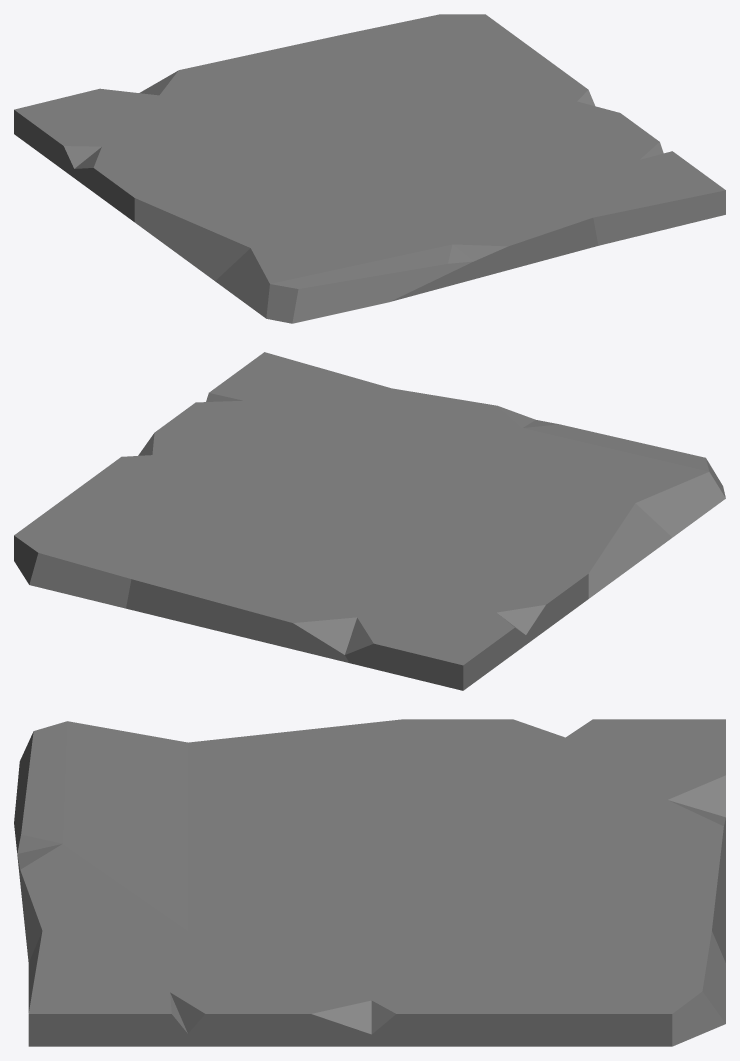
Rendered from stone_3.fbx.
The picture shows the model from 3 angles, top to bottom: view 1: azimuth 30°, elevation 25°; view 2: azimuth 150°, elevation 25°; view 3: azimuth 270°, elevation 25°; orthographic projection. The views are drawn at different scales.
Visible parts, largest first — view 1: stone_3; view 2: stone_3; view 3: stone_3.
Part boxes in pixels (x1,y1,x2,y2): stone_3: (14,14,725,323); stone_3: (14,352,725,690); stone_3: (14,719,725,1046).
Size of the model in its own units: 398 by 23.72 by 406.
